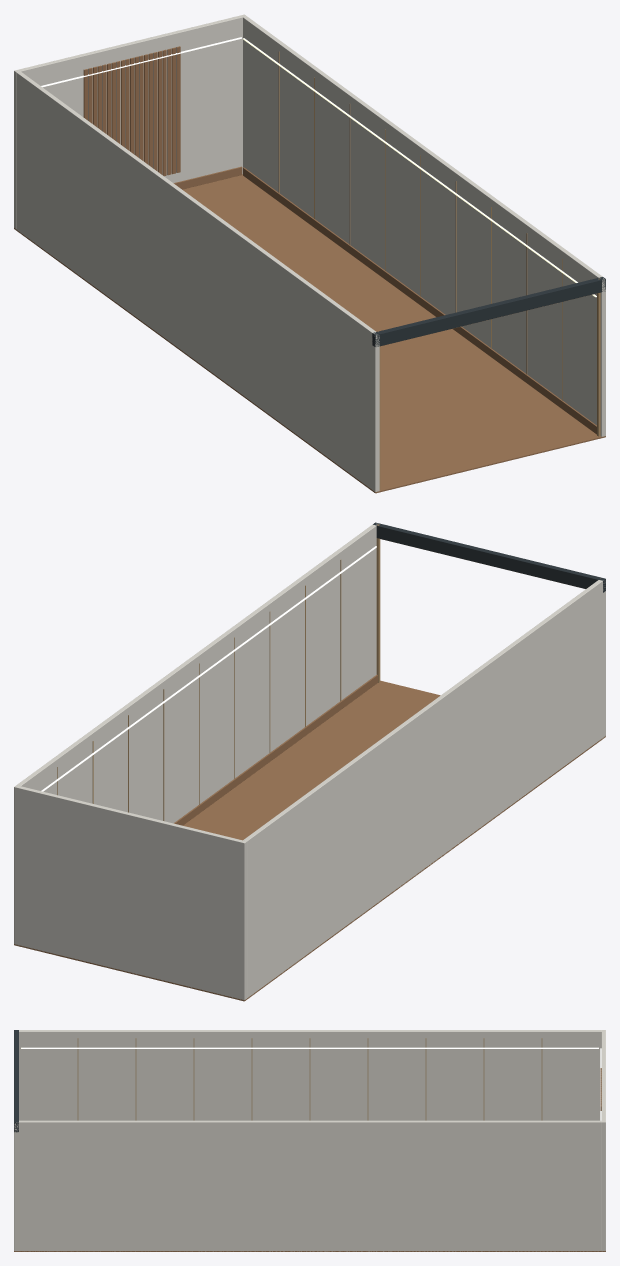
The model's file is booth-14x38.glb.
The picture shows the model from 3 angles, top to bottom: view 1: azimuth 30°, elevation 25°; view 2: azimuth 150°, elevation 25°; view 3: azimuth 270°, elevation 25°; orthographic projection. The views are drawn at different scales.
Visible parts, largest first — view 1: mesh_side_-1, mesh_side_1, inset_oak_floor, mesh_rear, mesh_branding, oak_side_plinth_1, warm_side_wash_1, oak_accent_slat_20; view 2: mesh_side_-1, mesh_side_1, mesh_rear, inset_oak_floor, mesh_branding, oak_side_plinth_1, warm_side_wash_1, bronze_entry_post_1; view 3: mesh_side_1, mesh_side_-1, warm_side_wash_-1, mesh_rear, inset_oak_floor, mesh_branding.
Part boxes in pixels (<box>): mesh_side_-1: <box>16,71,379,491</box>; mesh_side_1: <box>243,16,605,436</box>; inset_oak_floor: <box>14,174,605,493</box>; mesh_rear: <box>14,14,246,229</box>; mesh_branding: <box>372,277,605,346</box>; oak_side_plinth_1: <box>243,167,596,434</box>; warm_side_wash_1: <box>243,38,596,297</box>; oak_accent_slat_20: <box>176,46,180,172</box>; mesh_side_-1: <box>243,580,605,997</box>; mesh_side_1: <box>17,523,377,823</box>; mesh_rear: <box>14,785,246,999</box>; inset_oak_floor: <box>14,680,605,1001</box>; mesh_branding: <box>373,522,605,592</box>; oak_side_plinth_1: <box>174,675,377,825</box>; warm_side_wash_1: <box>41,546,376,791</box>; bronze_entry_post_1: <box>376,524,380,682</box>; mesh_side_1: <box>14,1120,601,1251</box>; mesh_side_-1: <box>19,1030,601,1120</box>; warm_side_wash_-1: <box>21,1047,598,1048</box>; mesh_rear: <box>602,1030,605,1251</box>; inset_oak_floor: <box>14,1251,605,1251</box>; mesh_branding: <box>14,1030,18,1132</box>.
Size of the model in its own units: 4.27 by 2.8 by 11.58.
